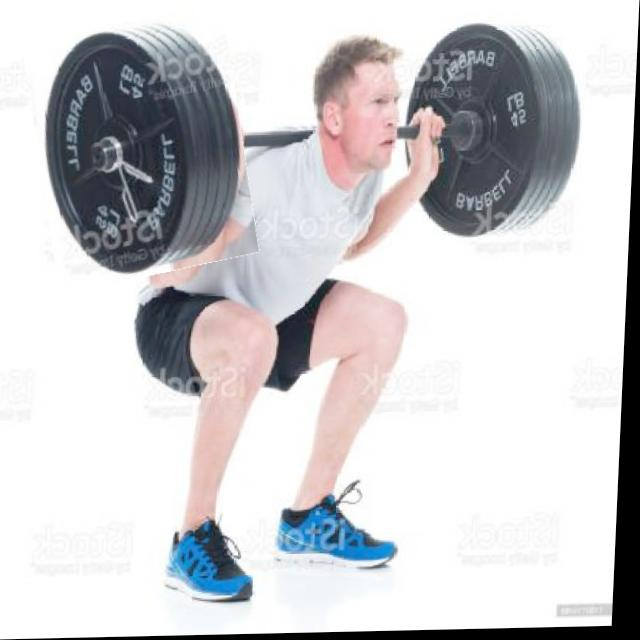barbell: (26, 6, 260, 289)
